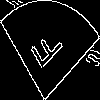F: (25, 24, 64, 78)
